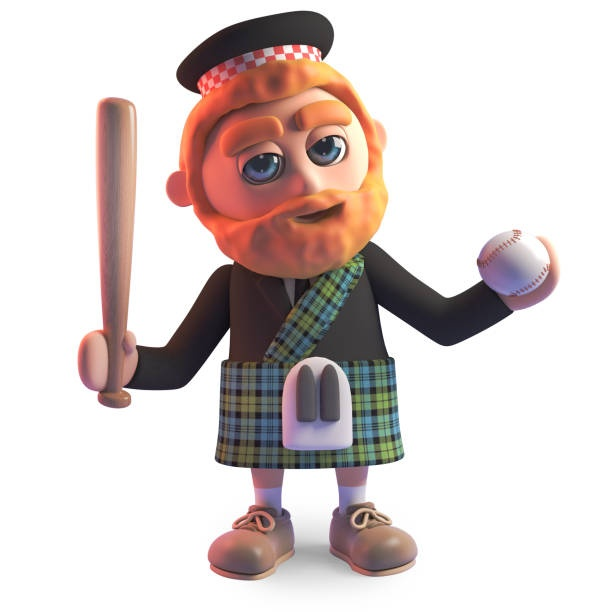bita: (91, 91, 140, 406)
